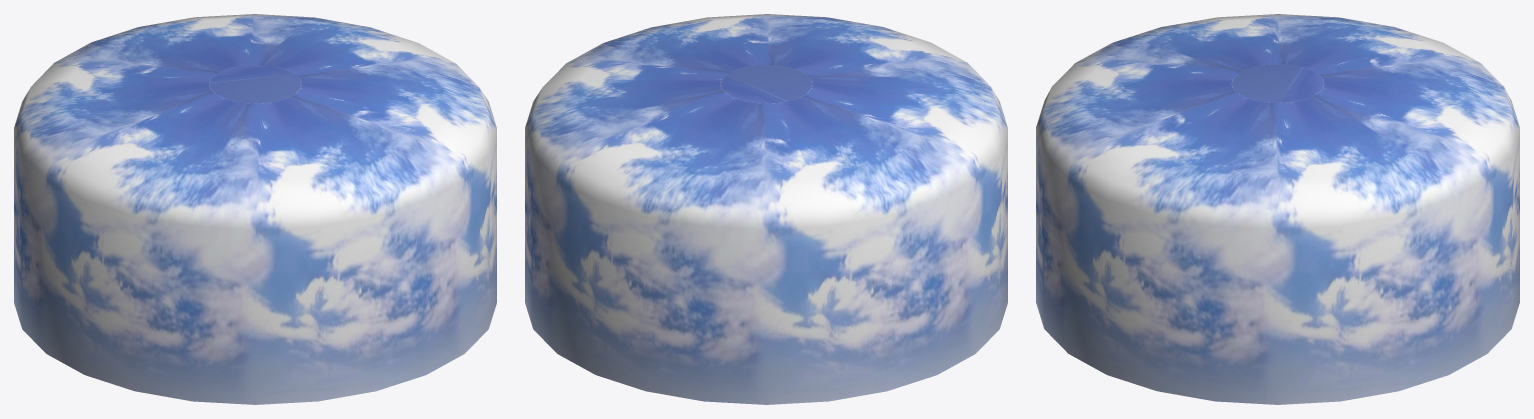
The model's file is sky2.fbx.
3 renders of one model, left to right at view 1: azimuth 30°, elevation 25°; view 2: azimuth 150°, elevation 25°; view 3: azimuth 270°, elevation 25°, orthographic.
Visible parts, largest first — view 1: sky2; view 2: sky2; view 3: sky2.
Boxes of the visible parts, box(x1,y1,x2,y2) form: sky2: box(14, 14, 496, 404); sky2: box(525, 14, 1007, 404); sky2: box(1036, 14, 1519, 404).
Size of the model in its own units: 2 by 1 by 2.
Materials: 1 (1 with a texture image).
